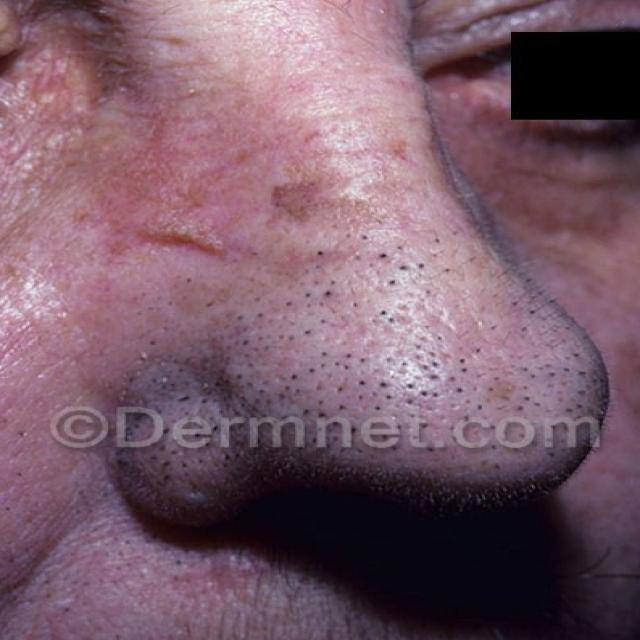Acne: (138, 234, 640, 483)
